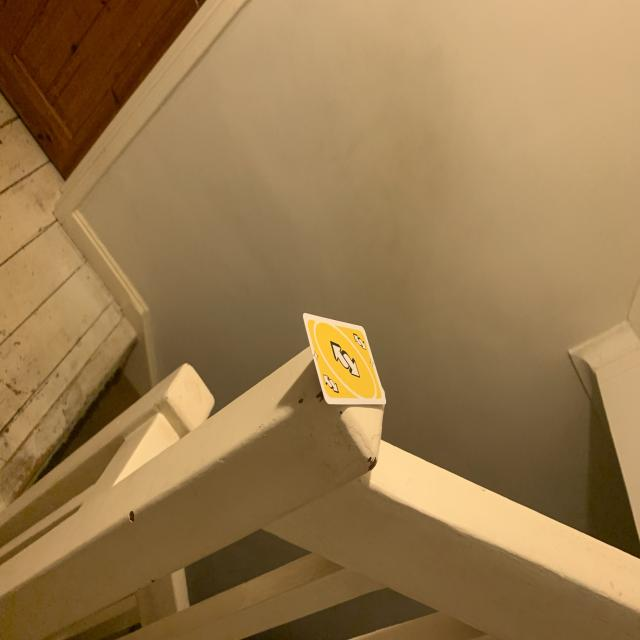lyellowrevers-20: (350, 328, 370, 354)
